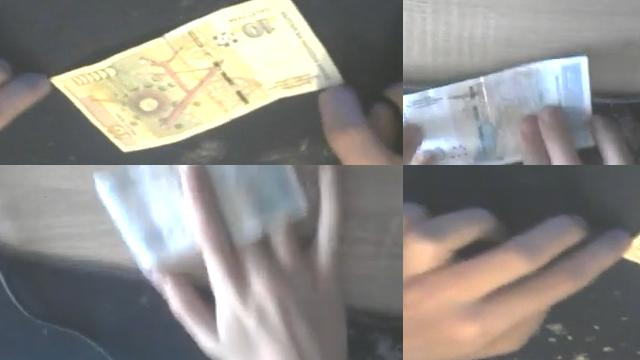10leva: (50, 0, 343, 152)
20leva: (91, 165, 350, 360), (403, 55, 591, 165)
